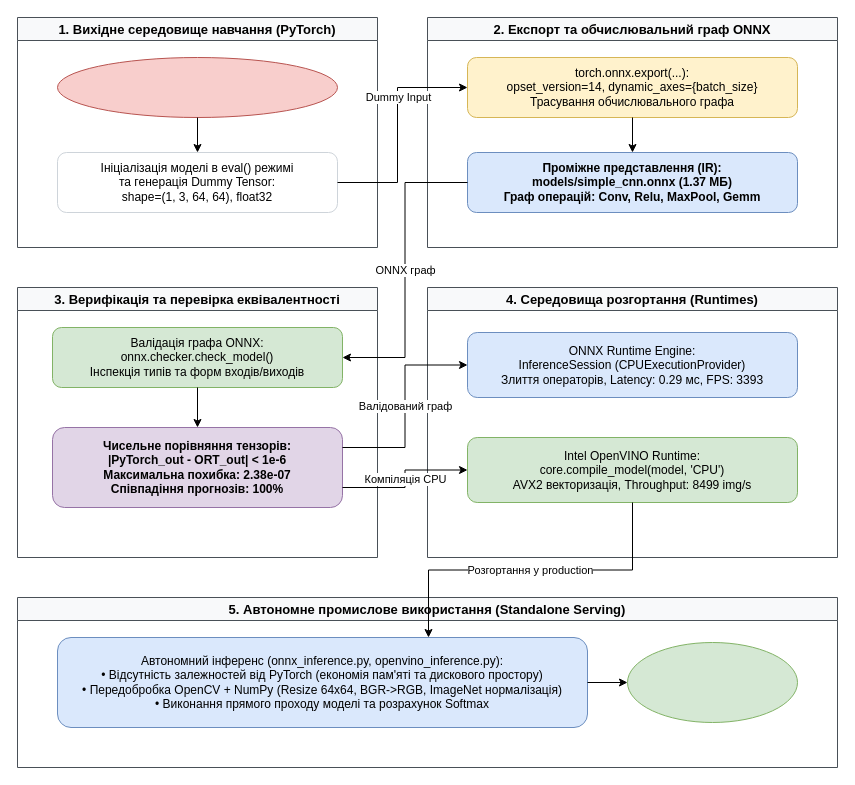
Some shapes in this 855 by 785 pixel diagram are drawn without their labels. Here are the shapes that lost their labels. From the top down, the centre of each, then its label:
(197,87): Чекпоінт навченої моделі: models/best_cnn_model.pt (SimpleCNN, 356k параметрів)
(712,682): Кінцевий результат: Клас, впевненість, телеметрія Latency/FPS
